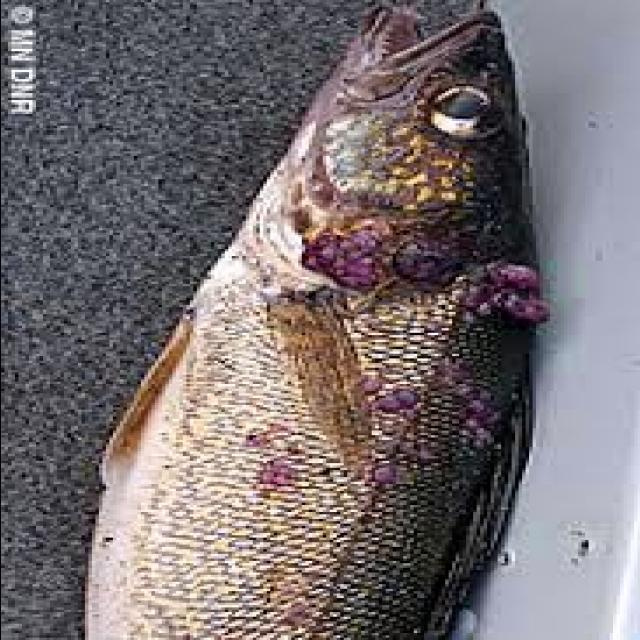EUS Disease: (84, 15, 541, 640), (240, 146, 538, 640)
